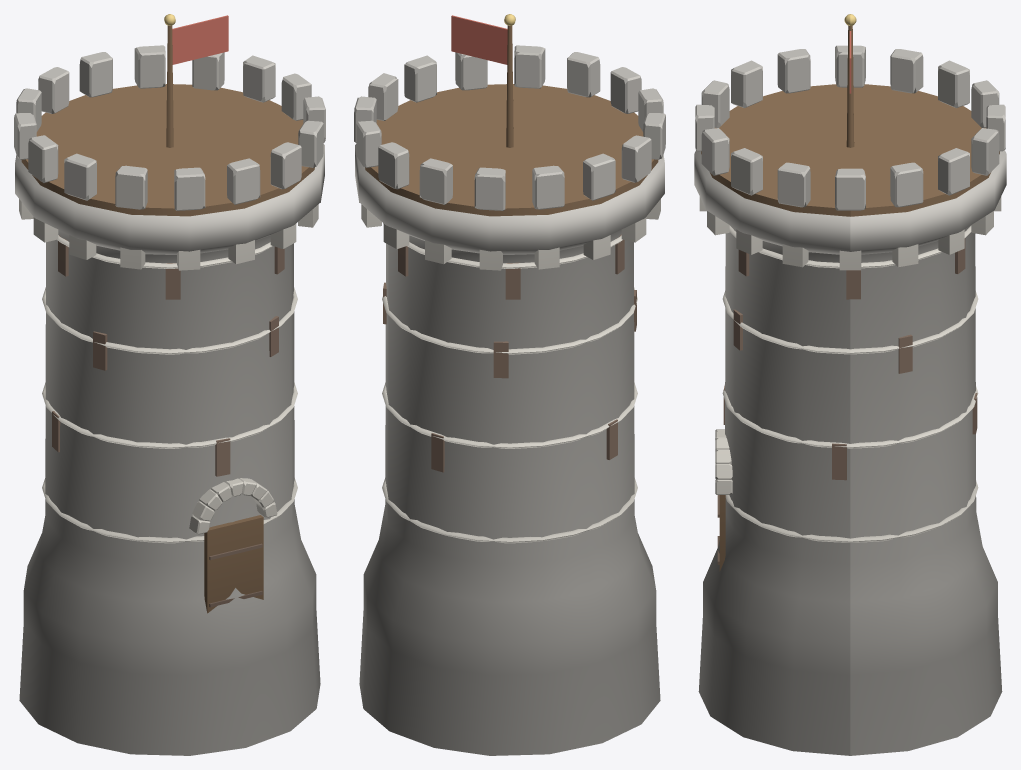
The model's file is turm_zinnen.glb.
3 renders of one model, left to right at view 1: azimuth 30°, elevation 25°; view 2: azimuth 150°, elevation 25°; view 3: azimuth 270°, elevation 25°, orthographic.
Parts seen in each view (by area): view 1: G_turm_zinnen; view 2: G_turm_zinnen; view 3: G_turm_zinnen.
Part boxes in pixels (x1,y1,x2,y2): G_turm_zinnen: (14, 14, 325, 755); G_turm_zinnen: (354, 14, 665, 755); G_turm_zinnen: (694, 14, 1006, 755).
Bounding box in the file's own units: 7.2 × 17.24 × 7.2.
